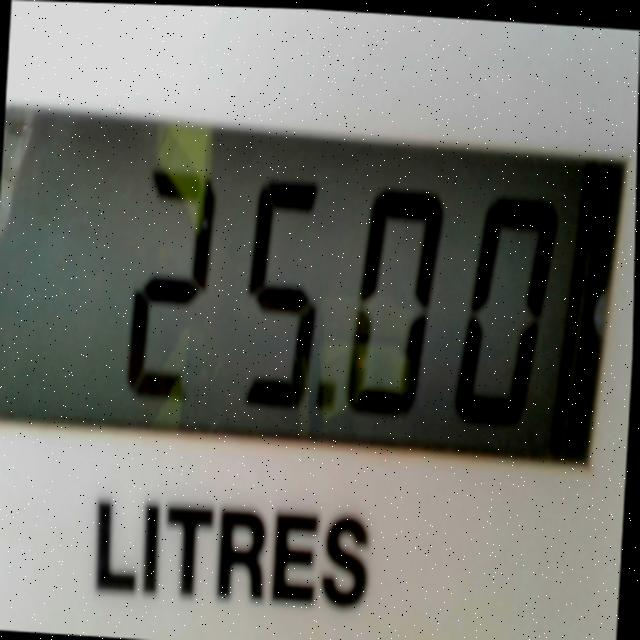.: (306, 347, 345, 426)
0: (452, 175, 585, 450), (342, 174, 457, 428)
2: (107, 139, 227, 410)
5: (219, 152, 343, 423)
